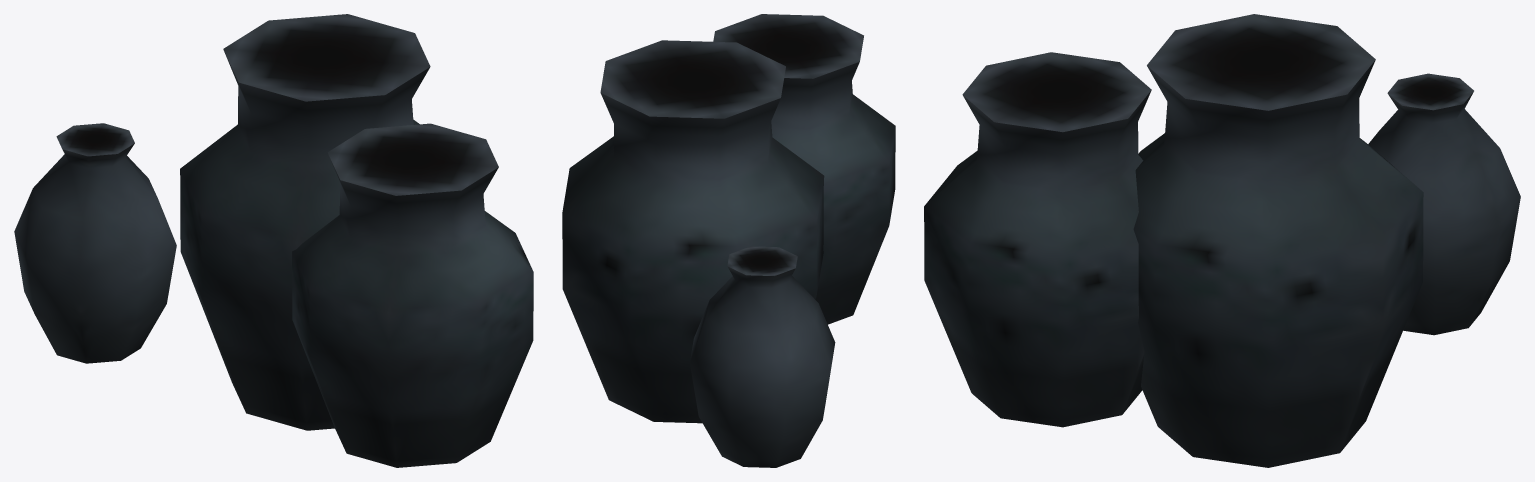
Rendered from Area08_5.fbx.
3 views of the same model, side by side, from view 1: azimuth 30°, elevation 25°; view 2: azimuth 150°, elevation 25°; view 3: azimuth 270°, elevation 25° (orthographic). The views are drawn at different scales.
Parts seen in each view (by area): view 1: Area08_5; view 2: Area08_5; view 3: Area08_5.
Boxes of the visible parts, box(x1,y1,x2,y2) form: Area08_5: box(14, 14, 533, 467); Area08_5: box(562, 14, 895, 467); Area08_5: box(924, 14, 1520, 467).
Bounding box in the file's own units: 139 × 125 × 187.
